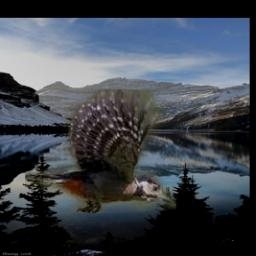Woodpecker: (26, 90, 178, 214)
